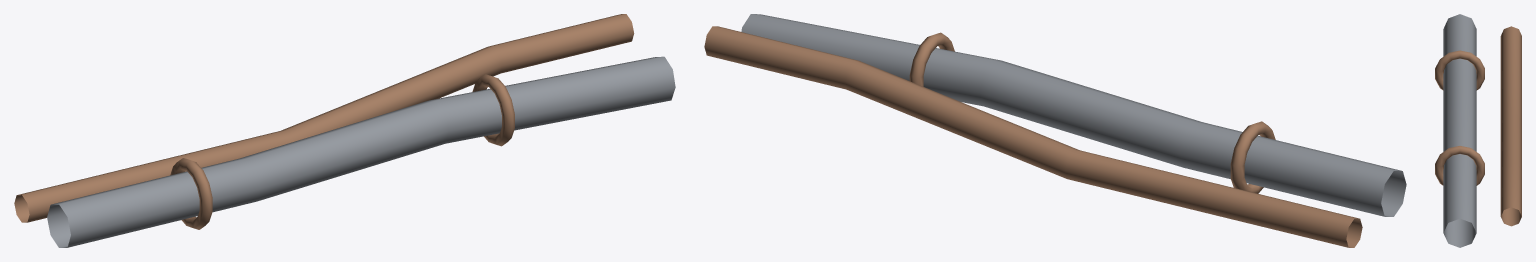
Rendered from pipe_set.glb.
The picture shows the model from 3 angles, left to right: view 1: azimuth 30°, elevation 25°; view 2: azimuth 150°, elevation 25°; view 3: azimuth 270°, elevation 25°; orthographic projection. The views are drawn at different scales.
Parts seen in each view (by area): view 1: pipe_set; view 2: pipe_set; view 3: pipe_set.
Boxes of the visible parts, left/top/right/bottom form: pipe_set: left=14, top=14, right=675, bottom=247; pipe_set: left=704, top=14, right=1406, bottom=247; pipe_set: left=1435, top=14, right=1521, bottom=247.
Bounding box in the file's own units: 3.21 × 0.39 × 0.5757.
